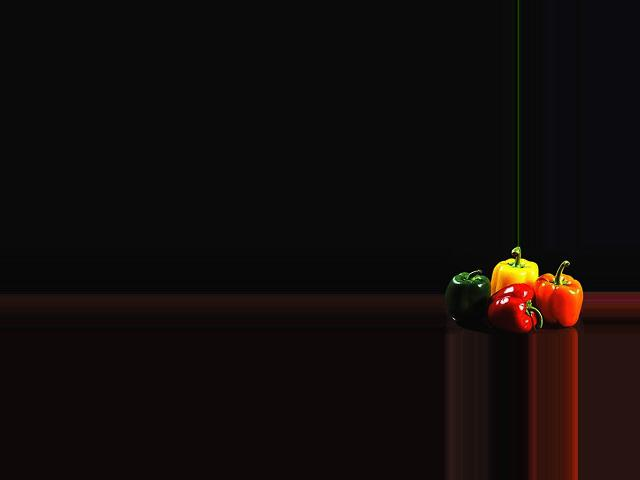bell_pepper: (533, 266, 583, 335)
